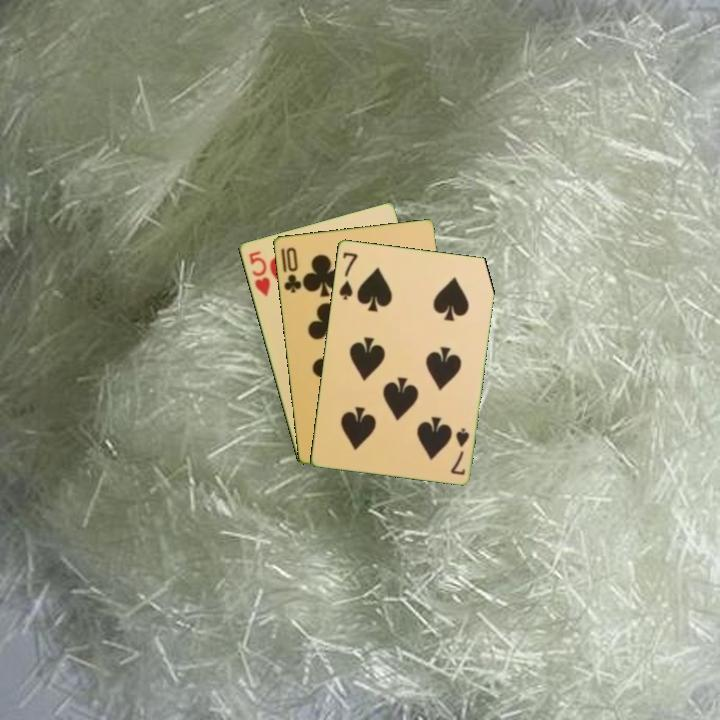10c: (280, 243, 304, 295)
5h: (245, 247, 273, 299)
7s: (335, 248, 360, 302), (447, 424, 472, 477)
